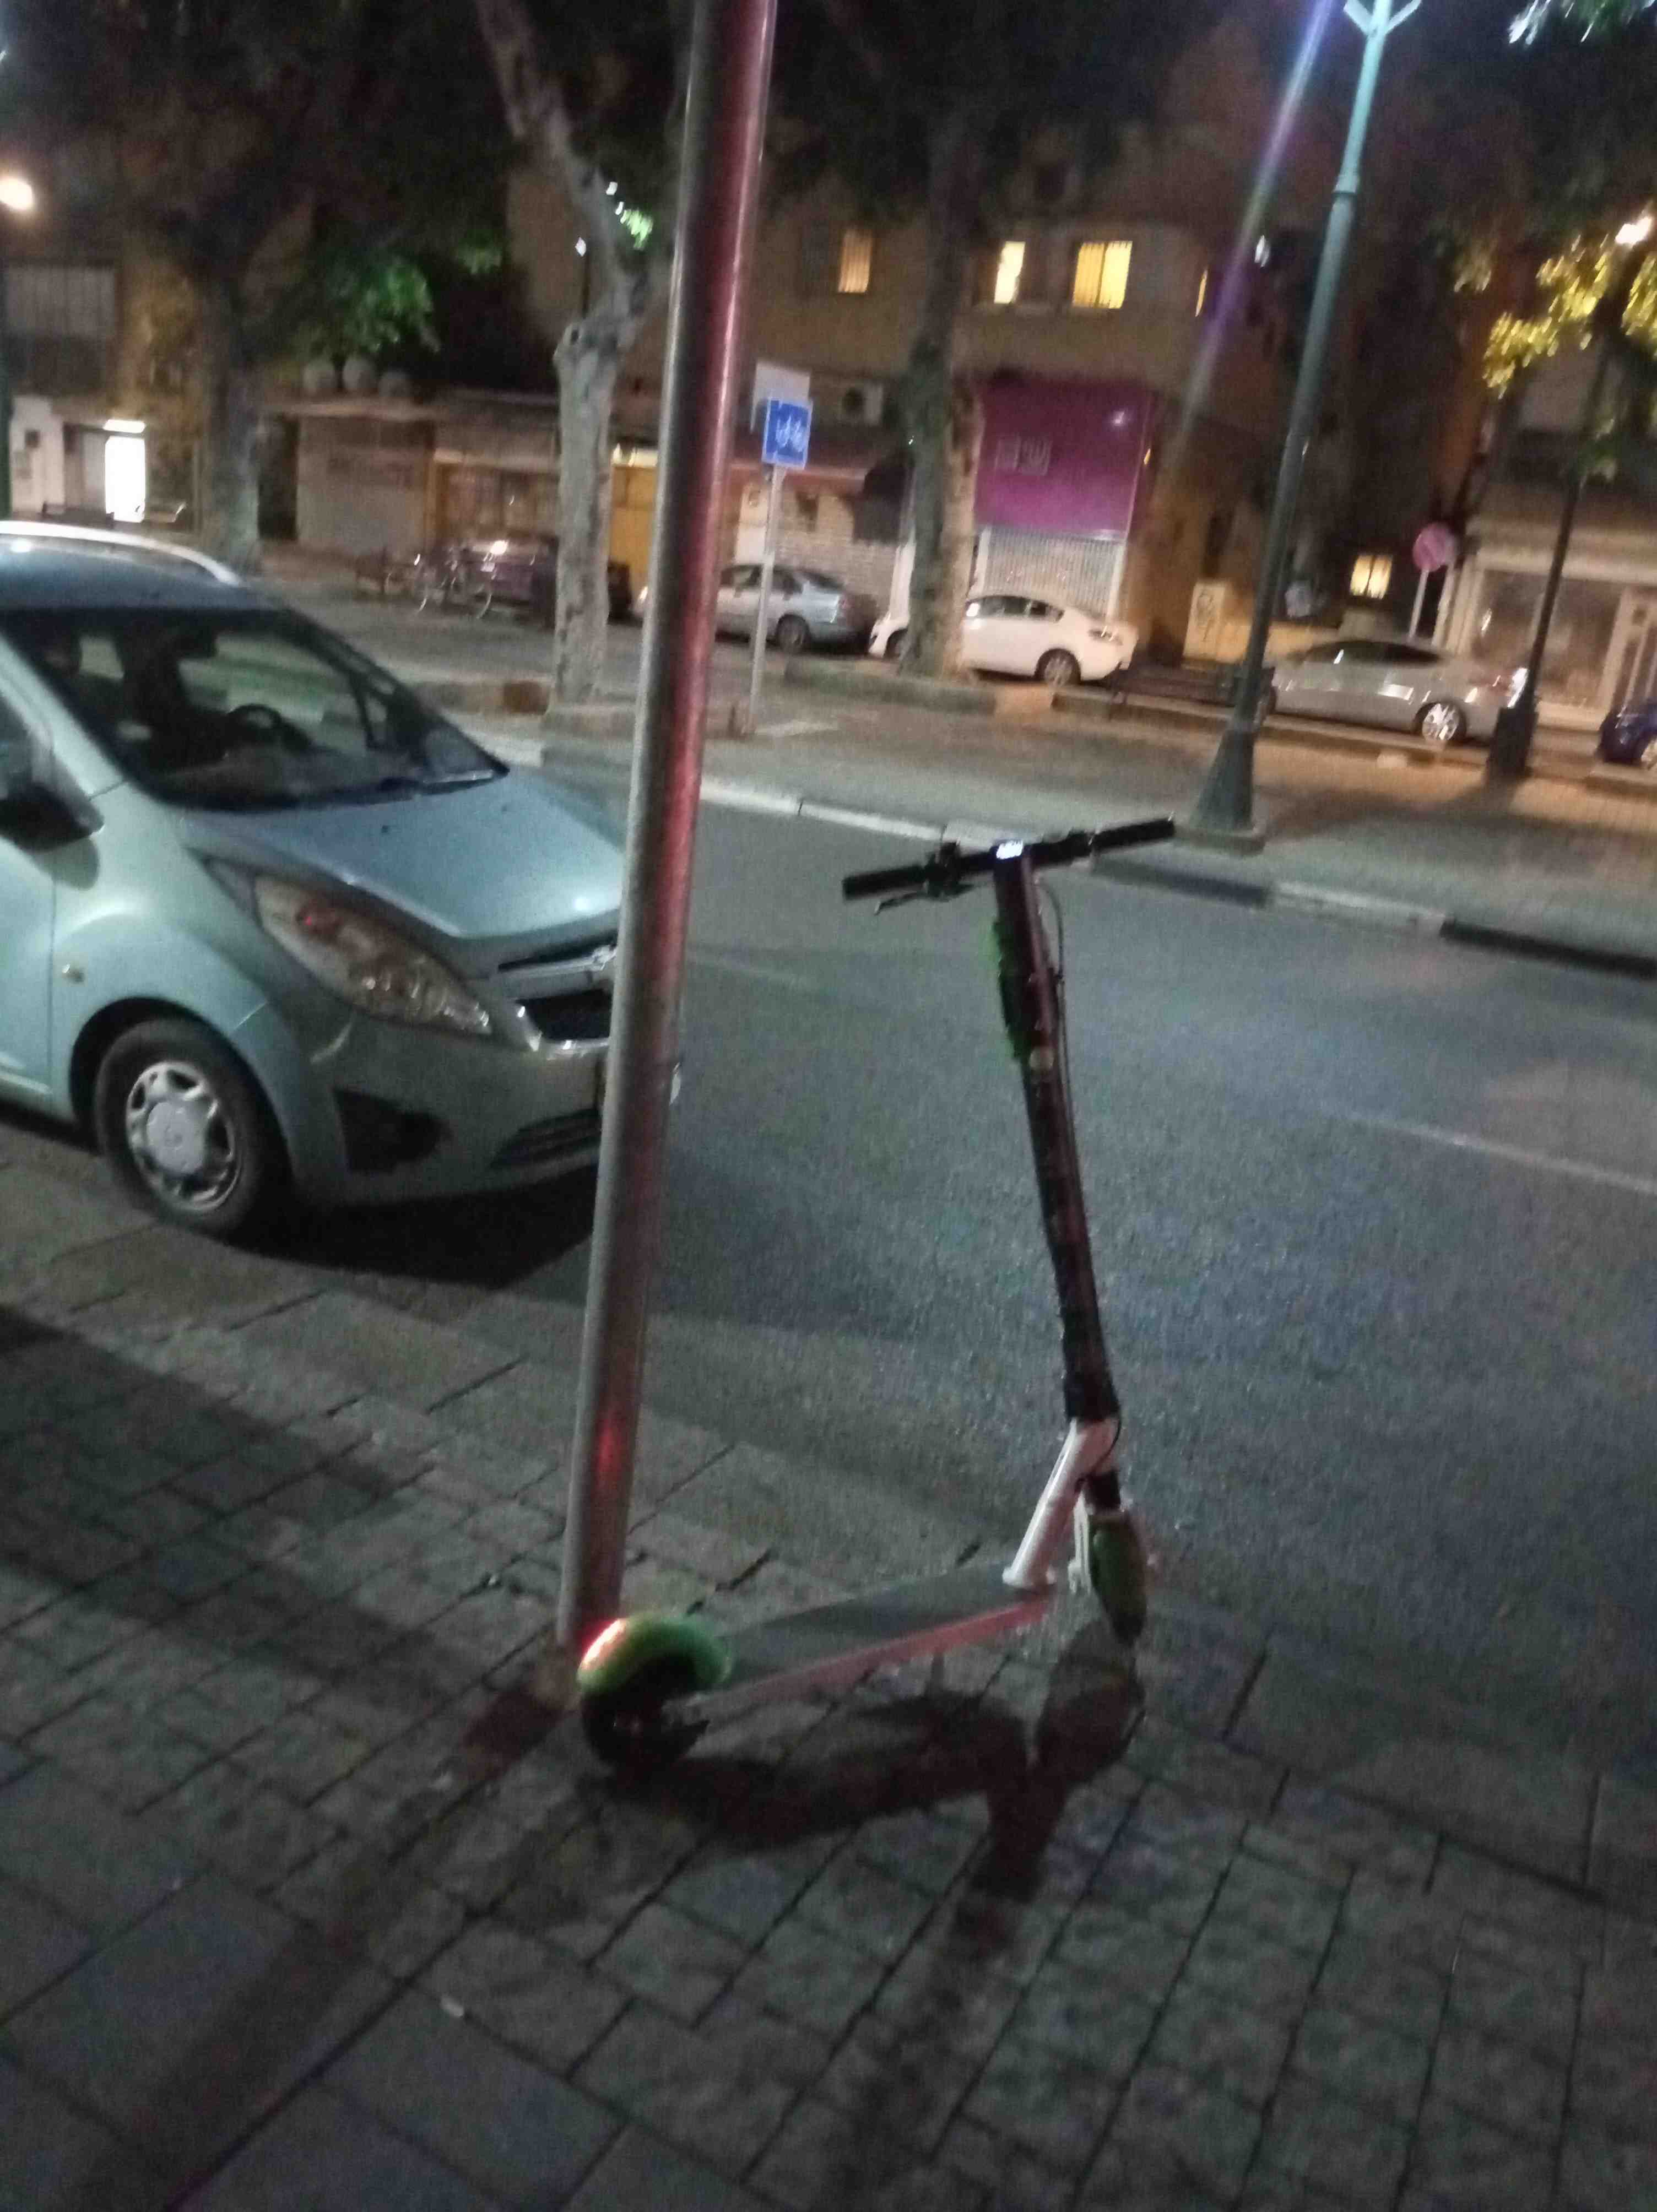too close: (943, 1438, 1295, 1713)
